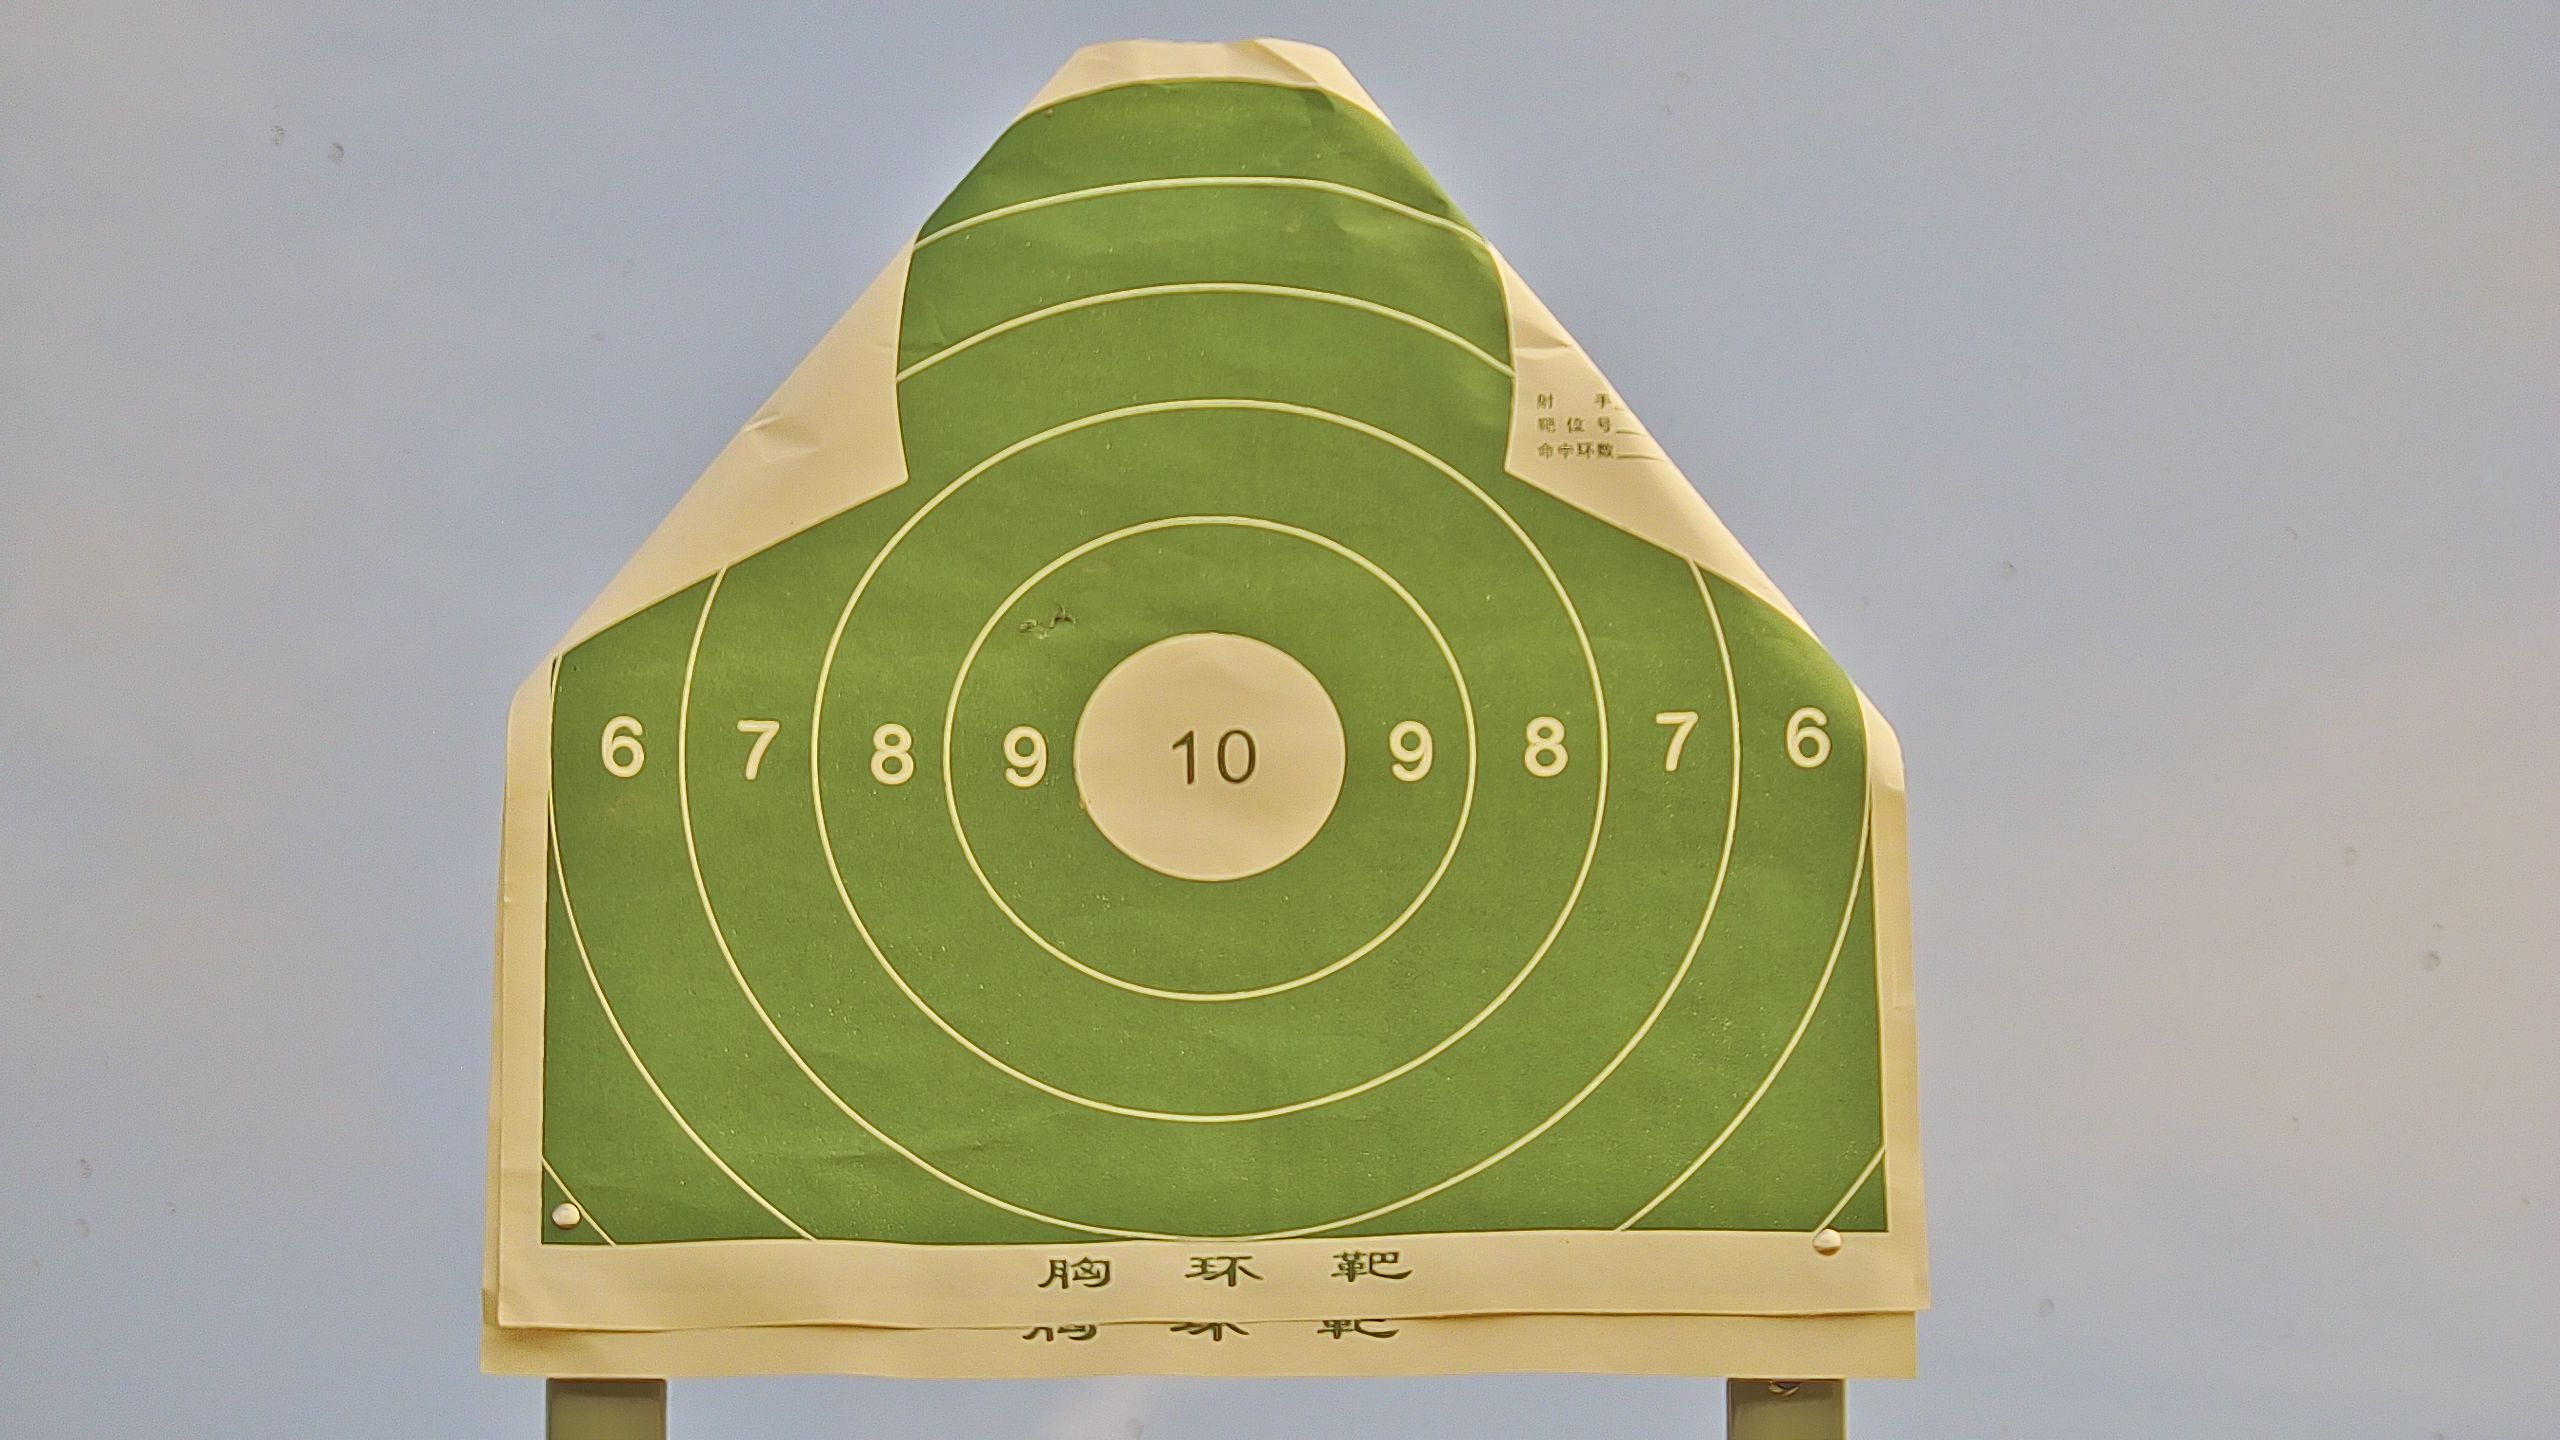kernel: (1208, 751, 1210, 763)
target: (535, 81, 1895, 1241)
ten: (1067, 622, 1349, 884)
